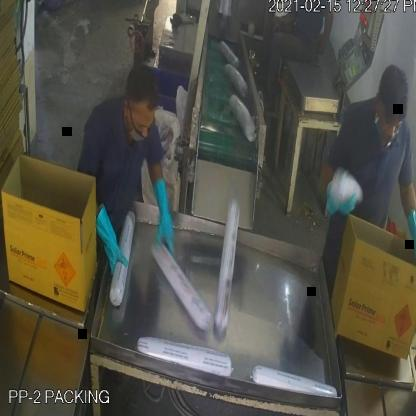glove: (146, 171, 182, 263), (92, 199, 130, 280), (404, 205, 416, 278)
no_glove: (310, 0, 336, 62), (268, 8, 297, 37)
